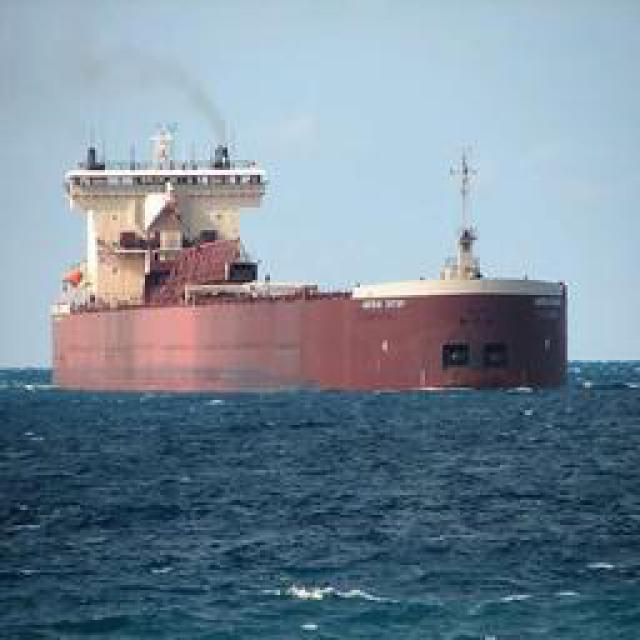Ship: (48, 115, 573, 395)
